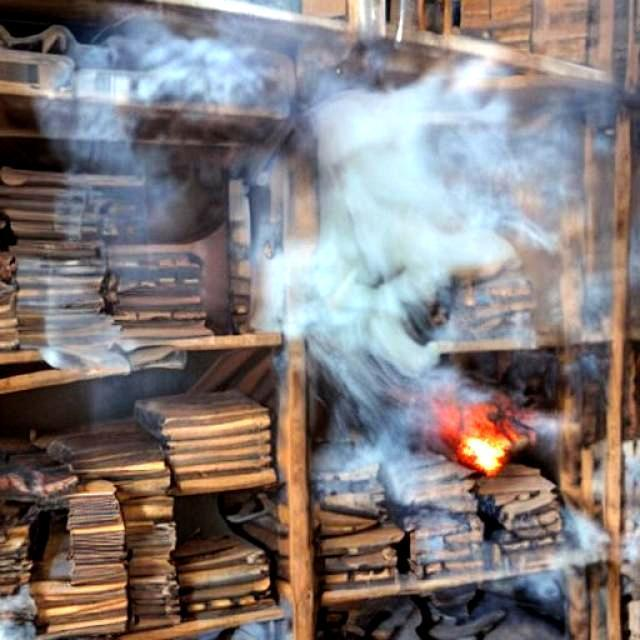Fire: (446, 418, 522, 476)
Smoke: (41, 14, 640, 422)
